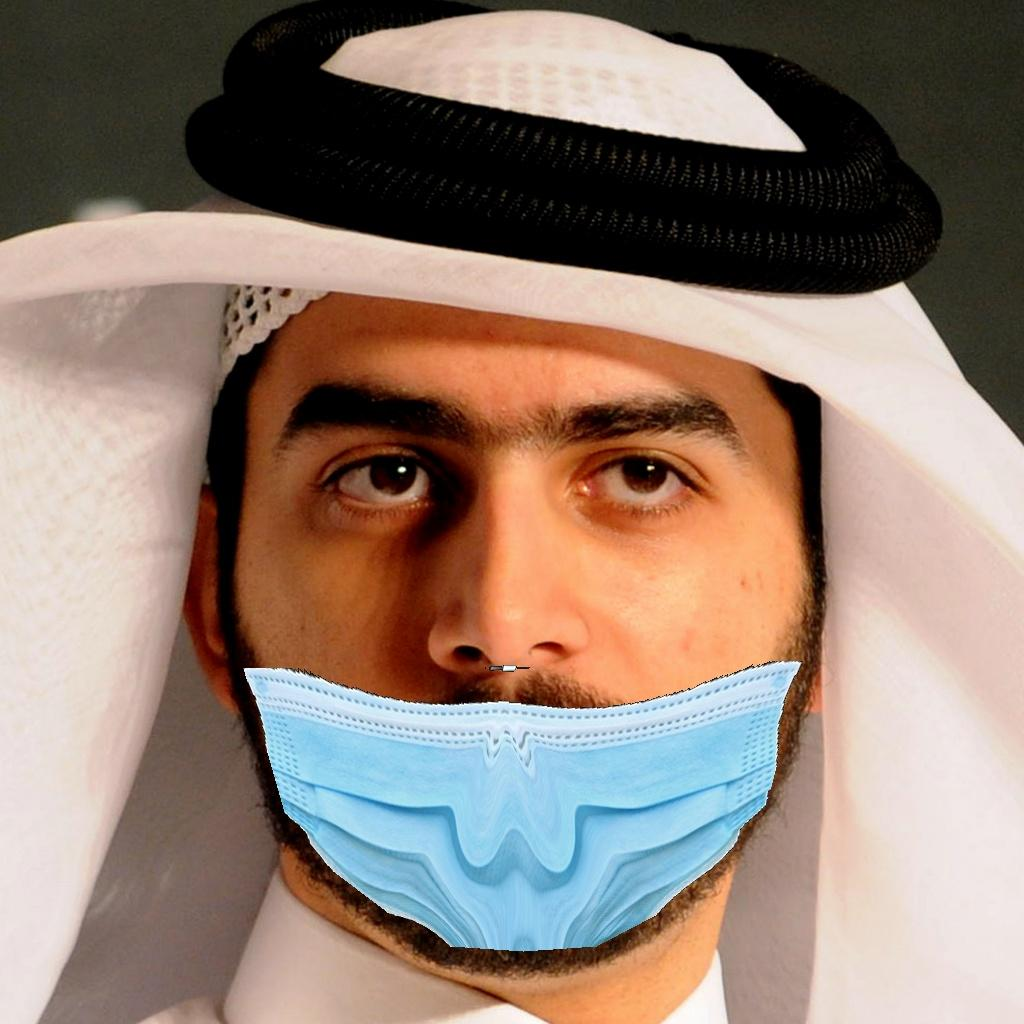Máscara Incorreta: (221, 335, 851, 973)
